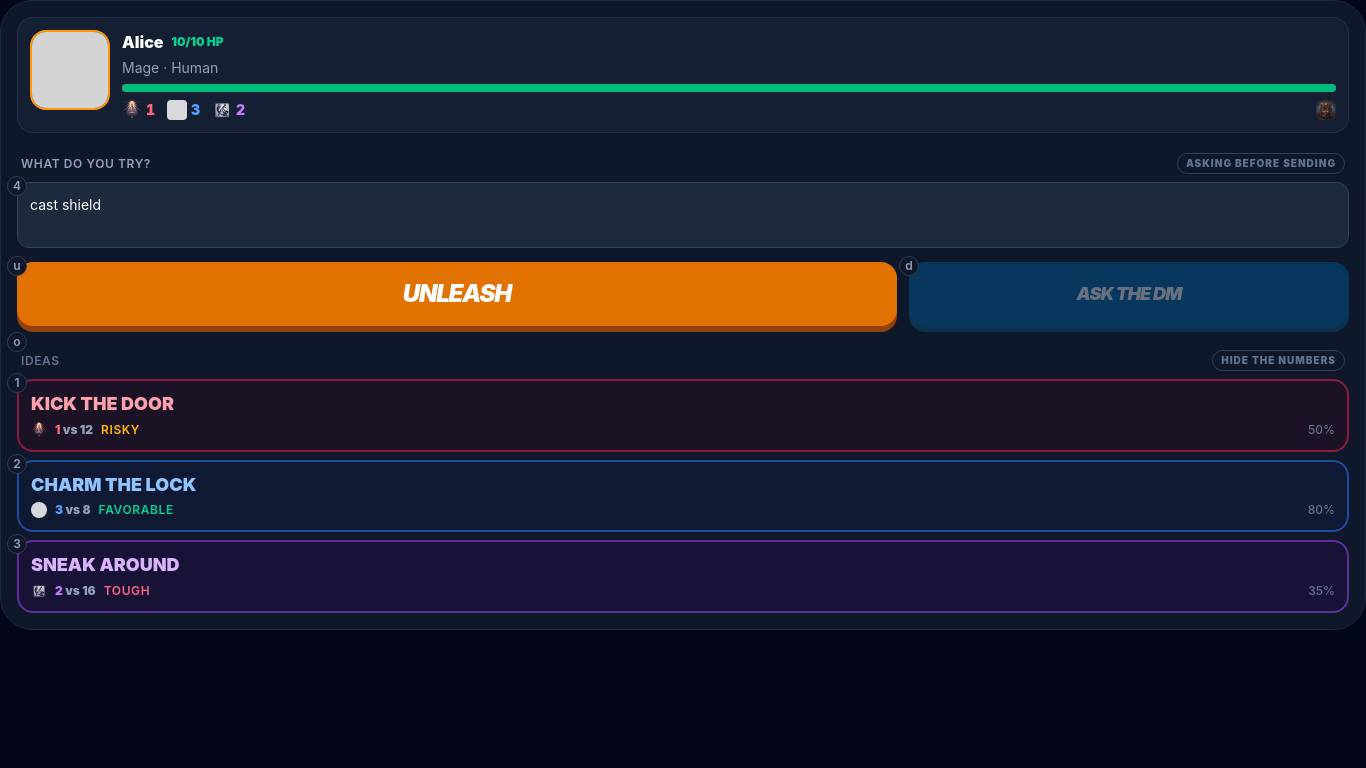
Scenario: ActionDock speech input › does not submit when canceling a previewed custom action
Click the button "UNLEASH".
click(457, 294)  # box [17,262,897,326]
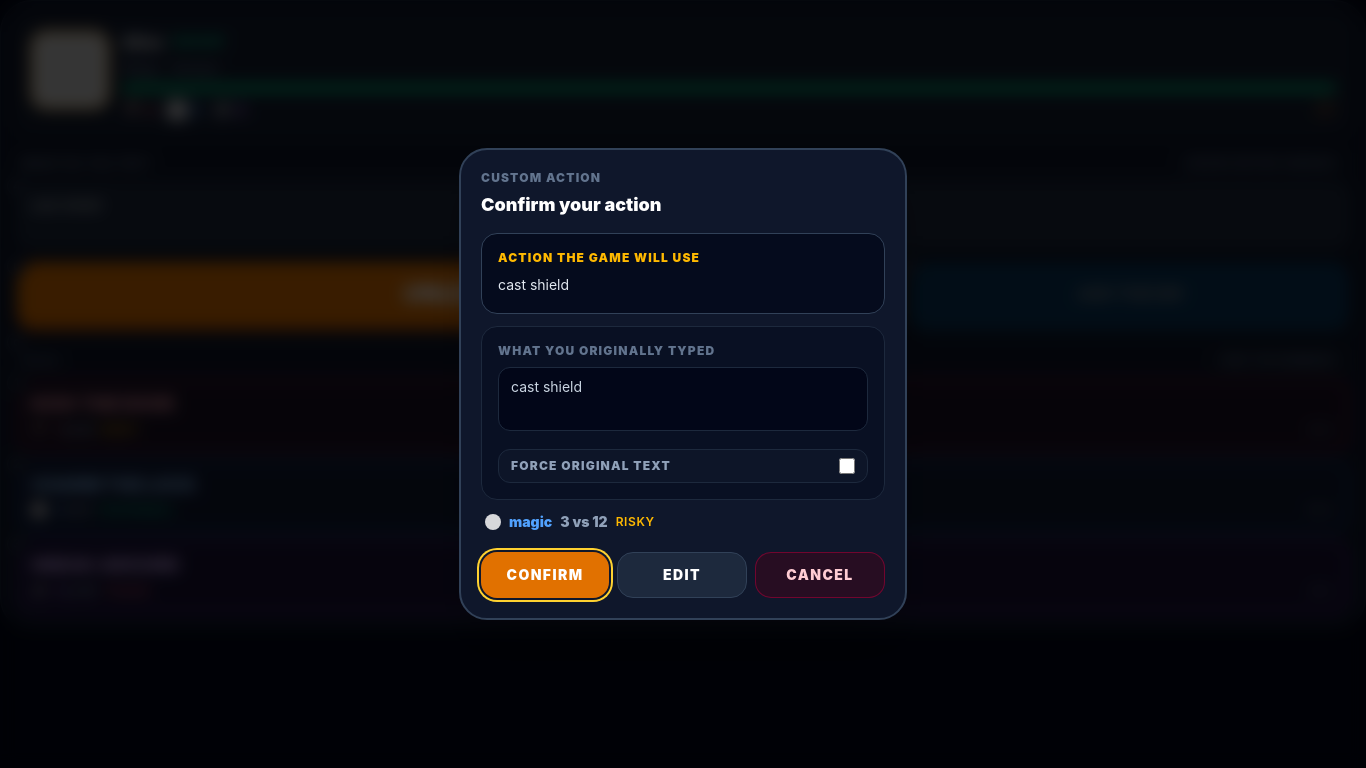
Click the button "Cancel".
click(820, 575)  # box [755,552,885,598]
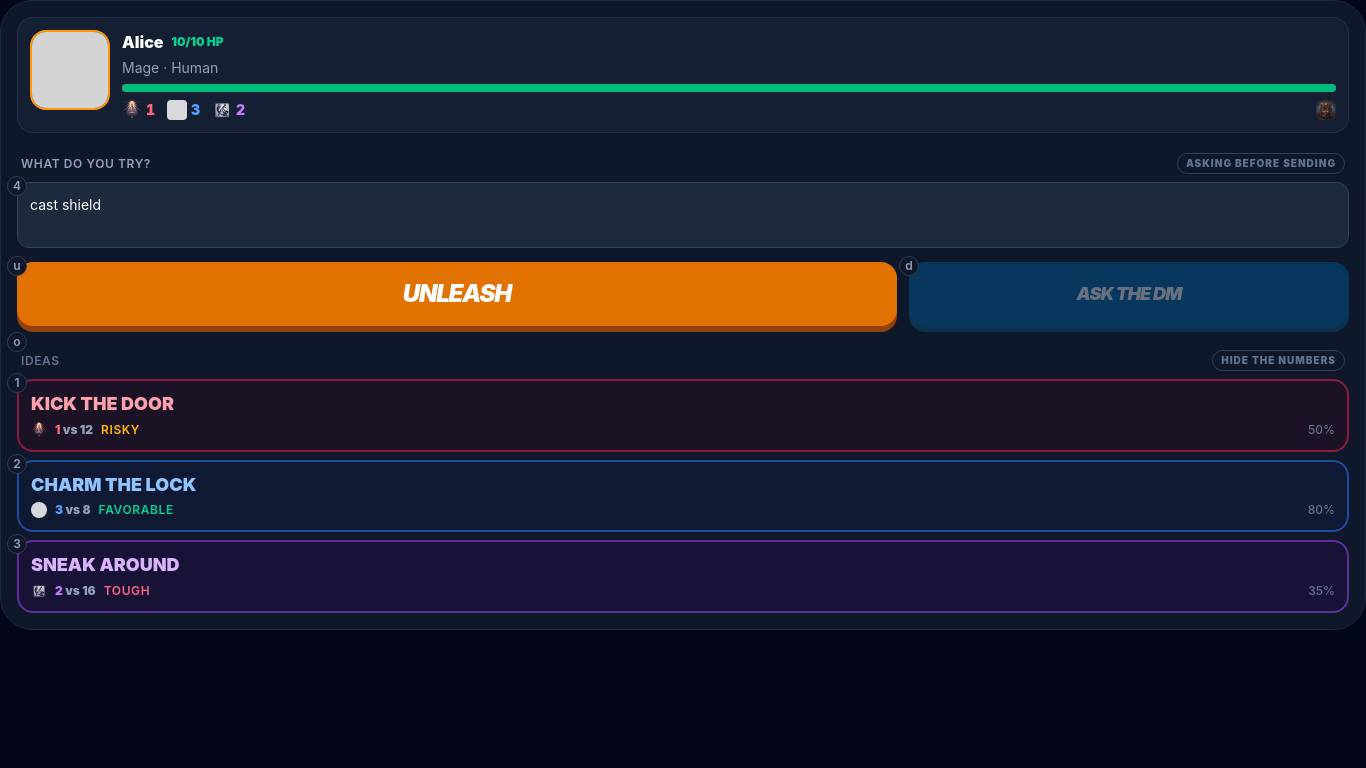
Now the button "Confirm" is gone
